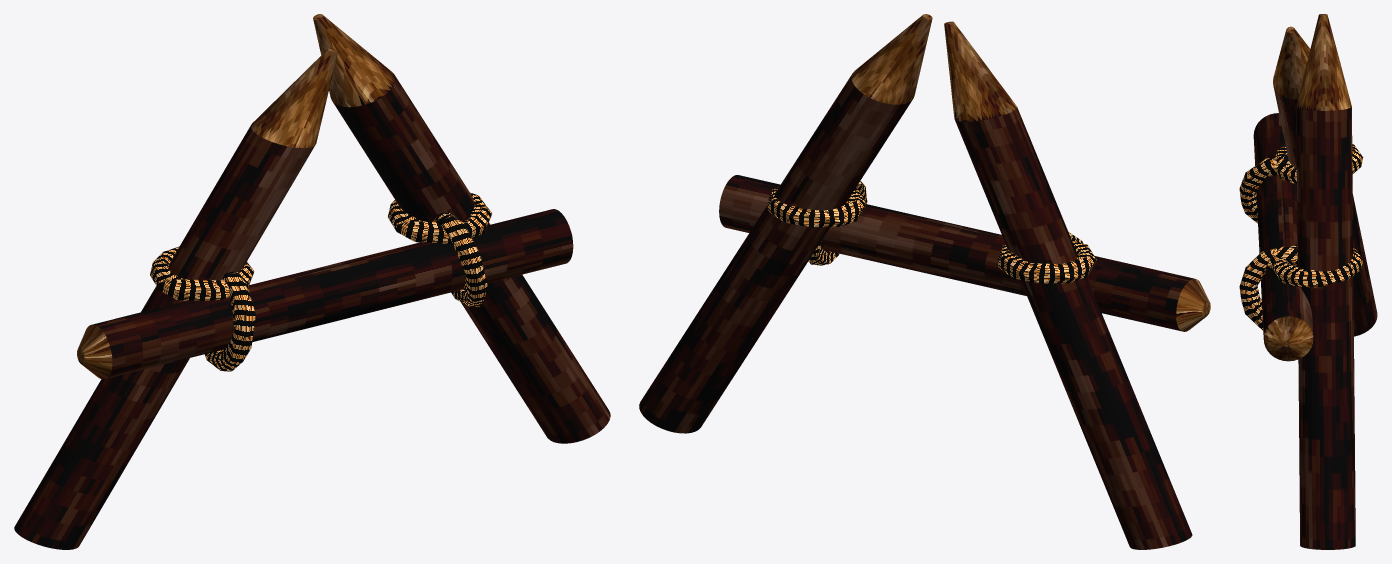
Rendered from stake2.glb.
3 renders of one model, left to right at view 1: azimuth 30°, elevation 25°; view 2: azimuth 150°, elevation 25°; view 3: azimuth 270°, elevation 25°, orthographic. The views are drawn at different scales.
Parts seen in each view (by area): view 1: Cylinder.007, Cylinder.004, Cylinder.006, Torus.018, Torus.006, Torus.017, Torus.016; view 2: Cylinder.007, Cylinder.006, Cylinder.004, Torus.006, Torus.016; view 3: Cylinder.006, Cylinder.004, Cylinder.007, Torus.017, Torus.016, Torus.018, Torus.006.
Boxes of the visible parts, x1=… form: Cylinder.007: x1=14, y1=48, x2=337, y2=549; Cylinder.004: x1=77, y1=209, x2=573, y2=379; Cylinder.006: x1=313, y1=14, x2=610, y2=443; Torus.018: x1=205, y1=271, x2=255, y2=371; Torus.006: x1=150, y1=246, x2=254, y2=300; Torus.017: x1=433, y1=212, x2=487, y2=306; Torus.016: x1=388, y1=192, x2=492, y2=243; Cylinder.007: x1=944, y1=21, x2=1192, y2=549; Cylinder.006: x1=639, y1=14, x2=932, y2=433; Cylinder.004: x1=719, y1=175, x2=1210, y2=331; Torus.006: x1=997, y1=240, x2=1096, y2=283; Torus.016: x1=766, y1=187, x2=866, y2=227; Cylinder.006: x1=1296, y1=14, x2=1355, y2=549; Cylinder.004: x1=1253, y1=113, x2=1313, y2=361; Cylinder.007: x1=1273, y1=26, x2=1377, y2=336; Torus.017: x1=1239, y1=246, x2=1297, y2=330; Torus.016: x1=1272, y1=244, x2=1363, y2=287; Torus.018: x1=1239, y1=155, x2=1289, y2=223; Torus.006: x1=1275, y1=144, x2=1363, y2=183.
Bounding box in the file's own units: 1.89 × 1.51 × 0.4438.
7 materials, 7 textured.
